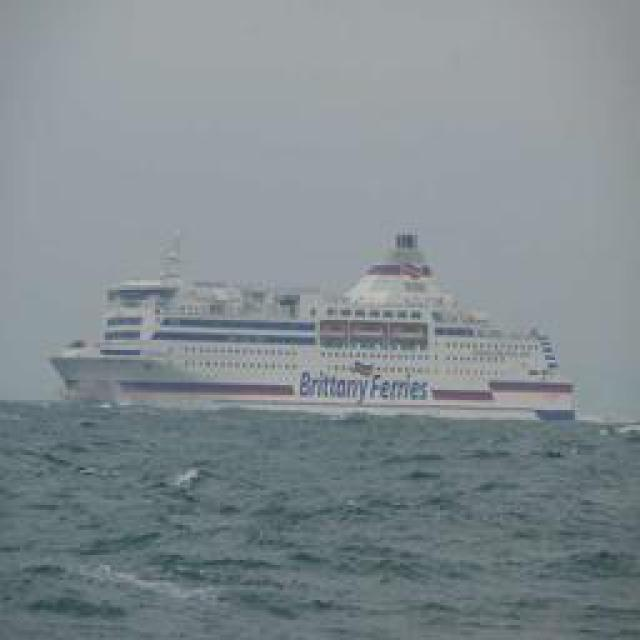Ship: (38, 236, 576, 426)
